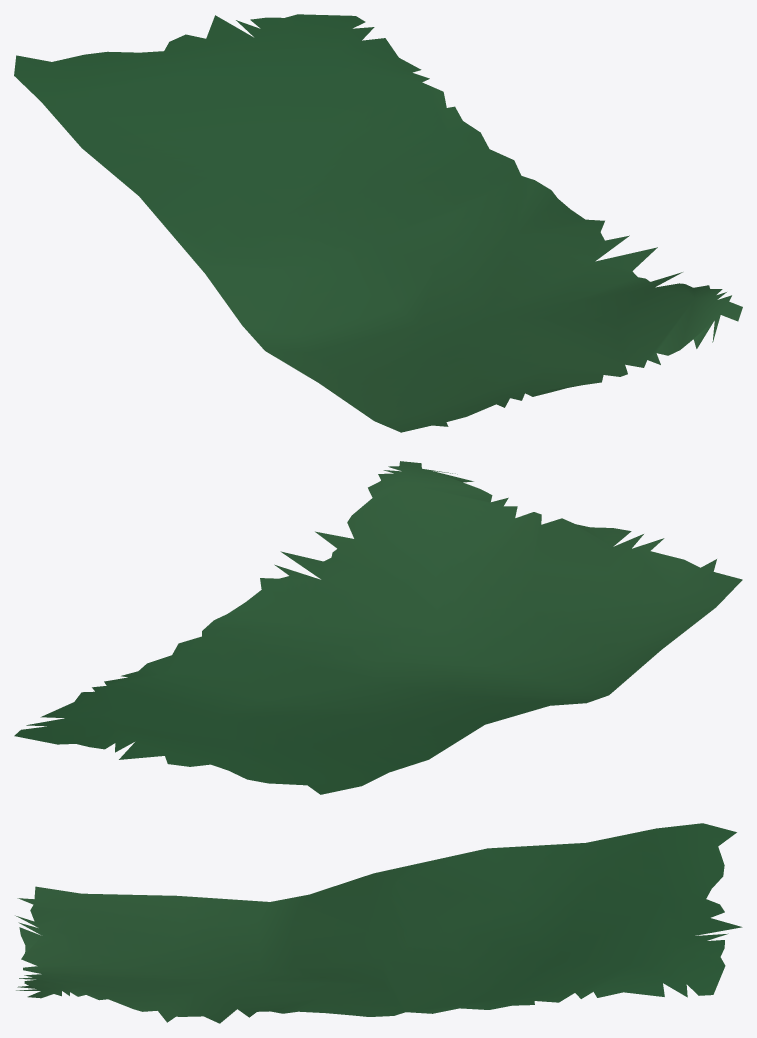
Rendered from payo_land_x4_y6_lod2.glb.
3 renders of one model, top to bottom at view 1: azimuth 30°, elevation 25°; view 2: azimuth 150°, elevation 25°; view 3: azimuth 270°, elevation 25°, orthographic. The views are drawn at different scales.
Parts seen in each view (by area): view 1: payo_land_x4_y6; view 2: payo_land_x4_y6; view 3: payo_land_x4_y6.
Part boxes in pixels (<box>): payo_land_x4_y6: <box>14,14,742,432</box>; payo_land_x4_y6: <box>14,461,742,794</box>; payo_land_x4_y6: <box>15,823,742,1023</box>.
Size of the model in its own units: 134 by 34.71 by 269.
